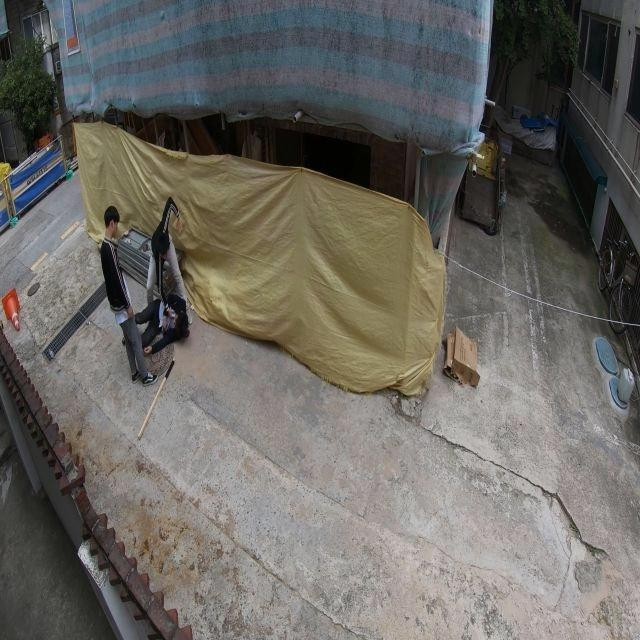fight: (98, 206, 191, 385)
